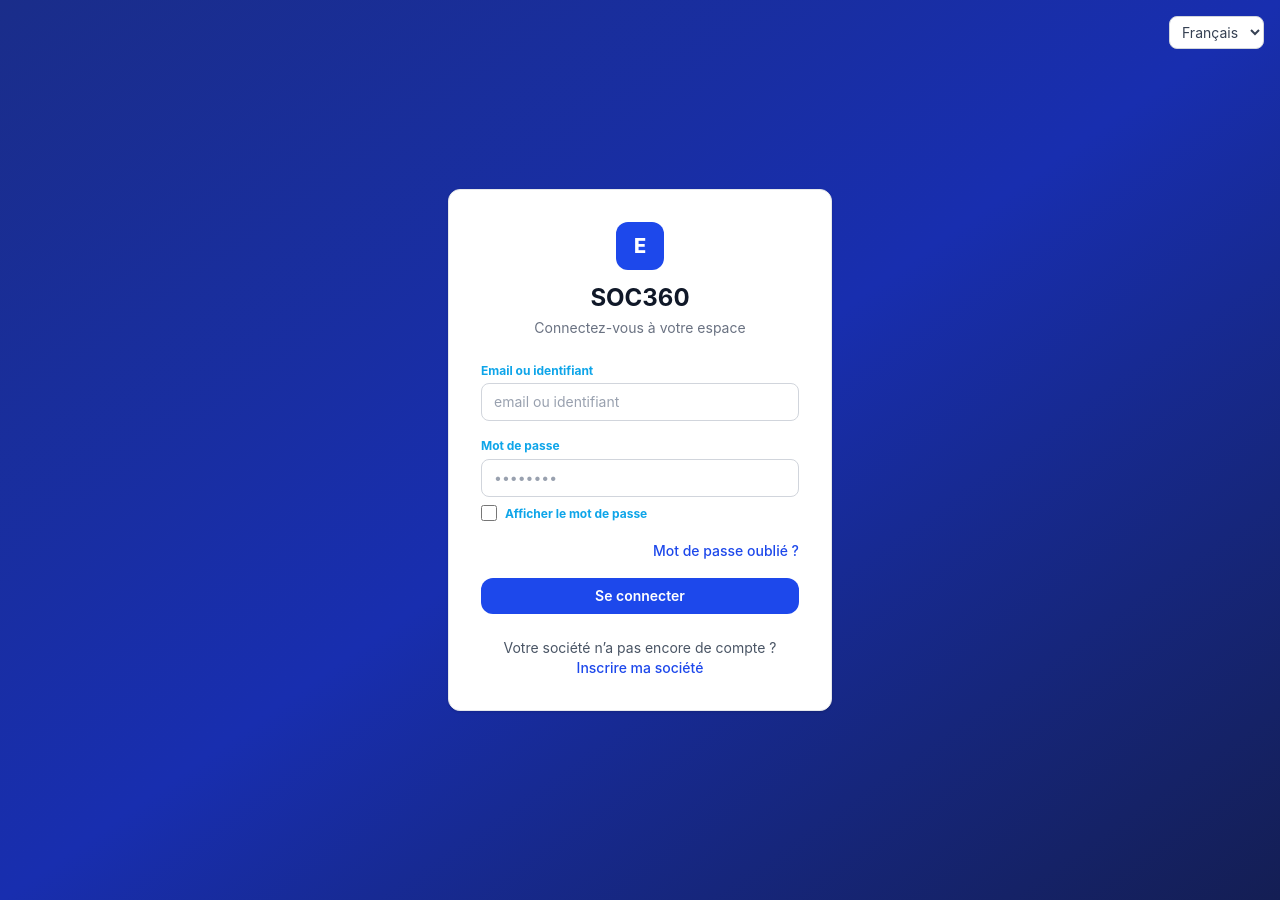
Login › affiche le message d’erreur du serveur en cas d’échec
This screenshot has width=1280, height=900.
Type "alice" into the field with placeholder "email ou identifiant" at (640, 402), box left=481, top=383, right=799, bottom=421
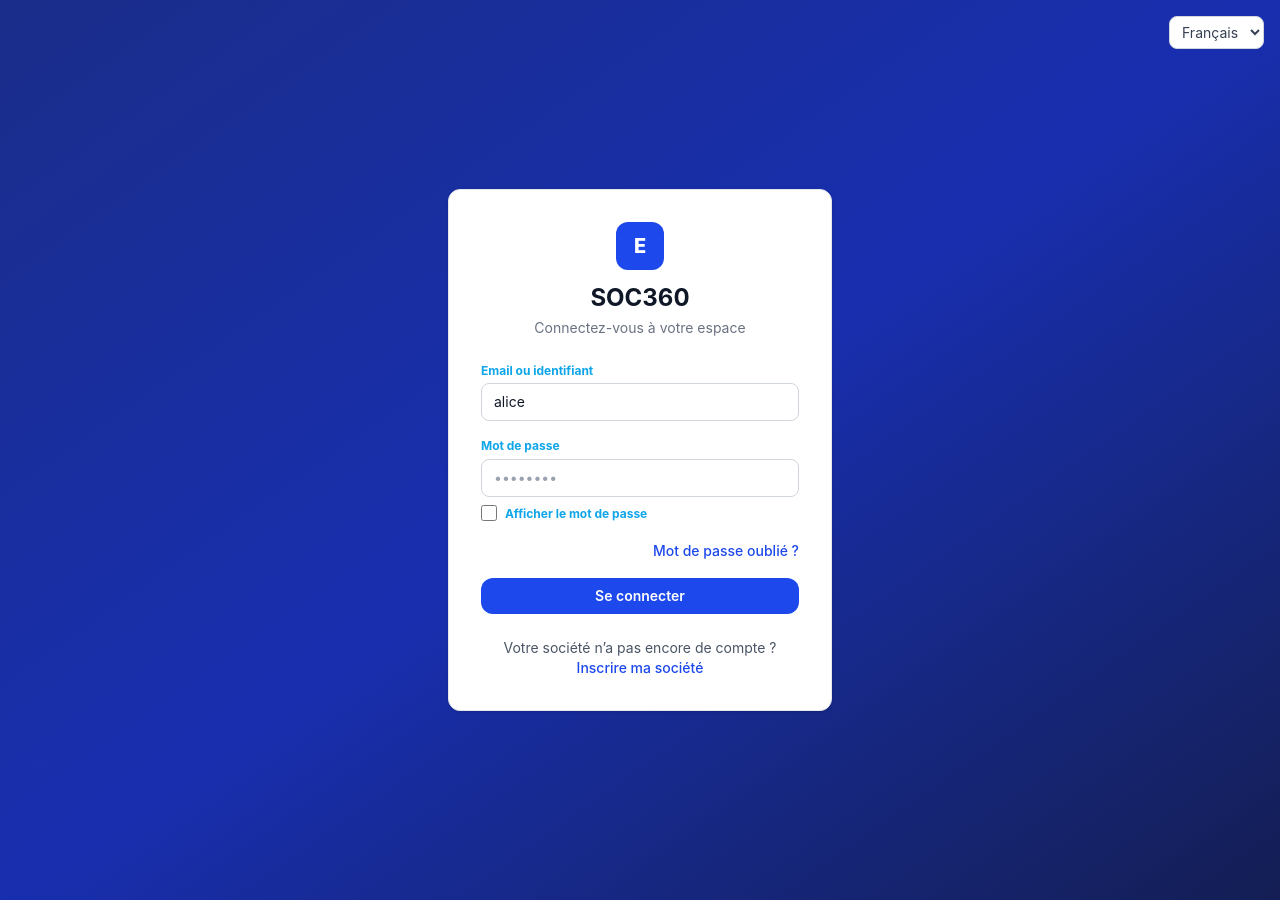
Type "mauvais" into the password field with placeholder "••••••••" at (640, 478), box left=481, top=459, right=799, bottom=497
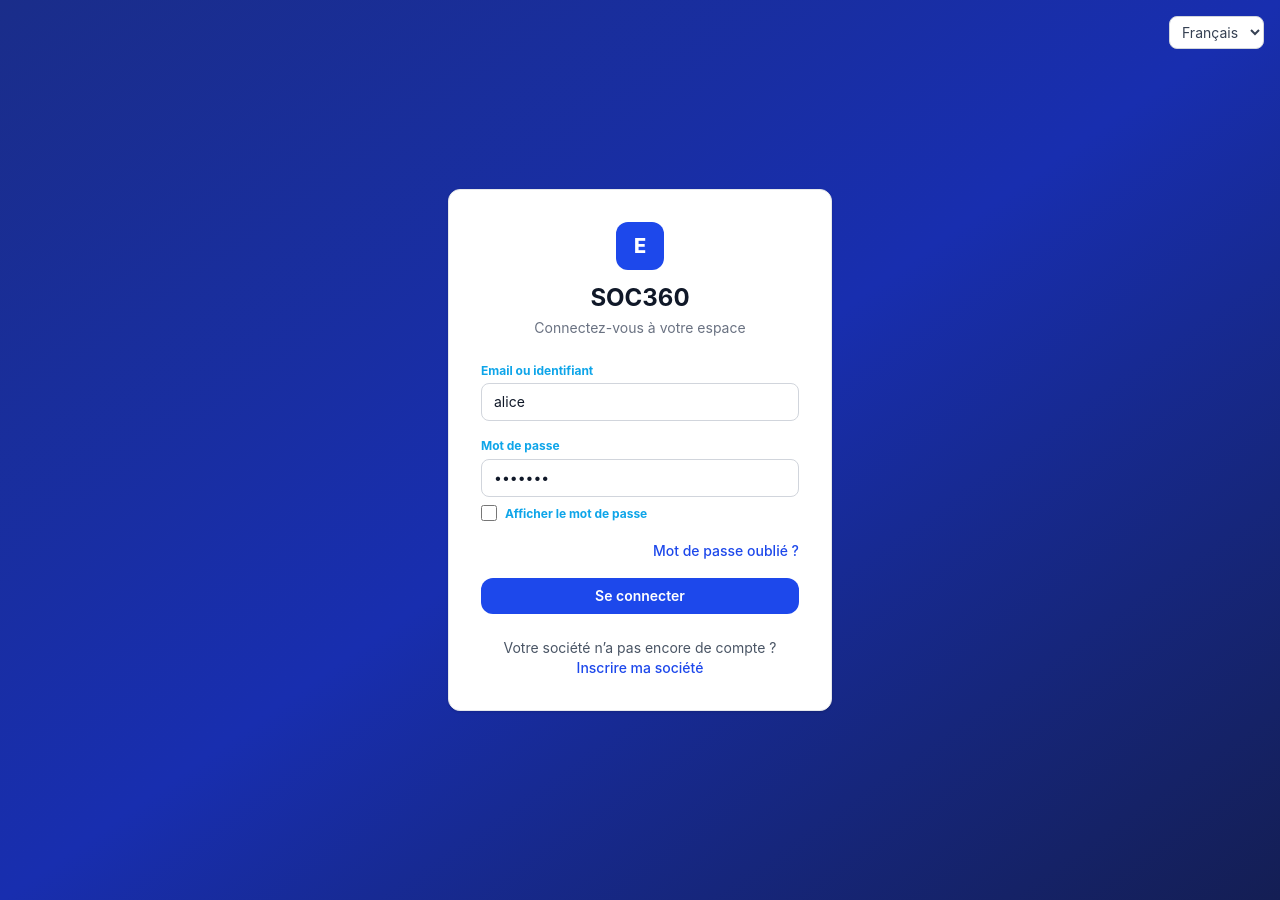
Submit the form named "Se connecter", box left=481, top=362, right=799, bottom=614
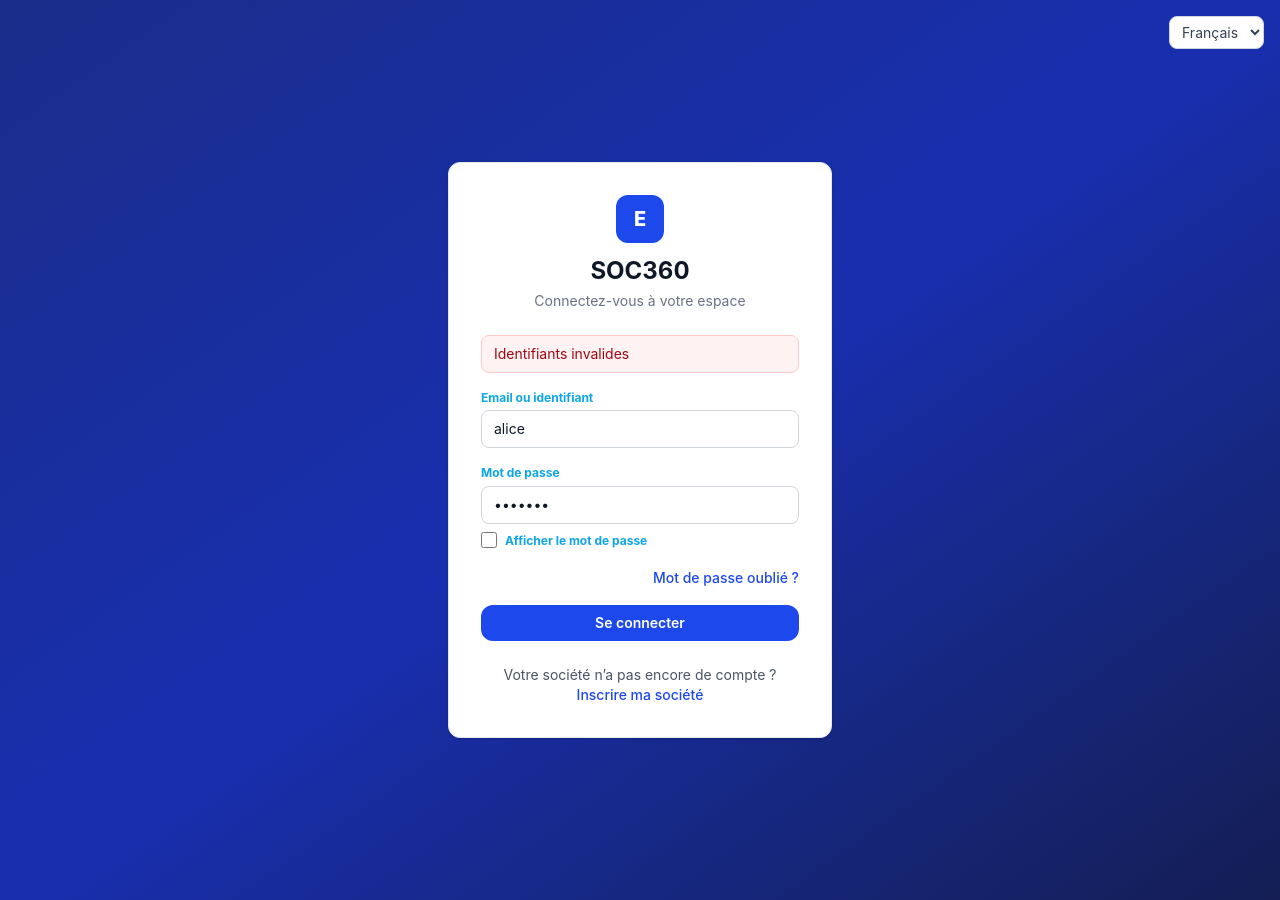
Result: the text "Identifiants invalides" is shown at left=481, top=335, right=799, bottom=373
